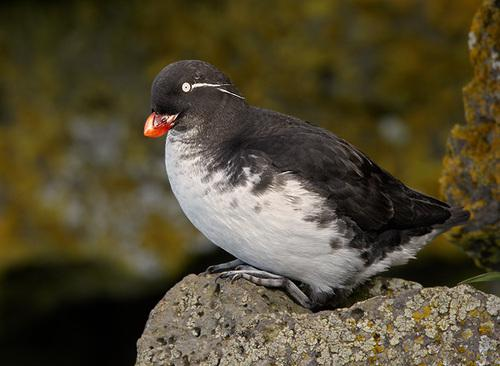007.Parakeet_Auklet: (141, 58, 470, 311)
